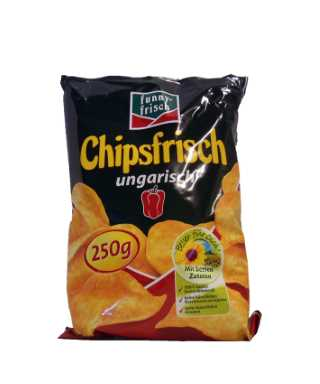chipsfrisch: (56, 73, 262, 342)
